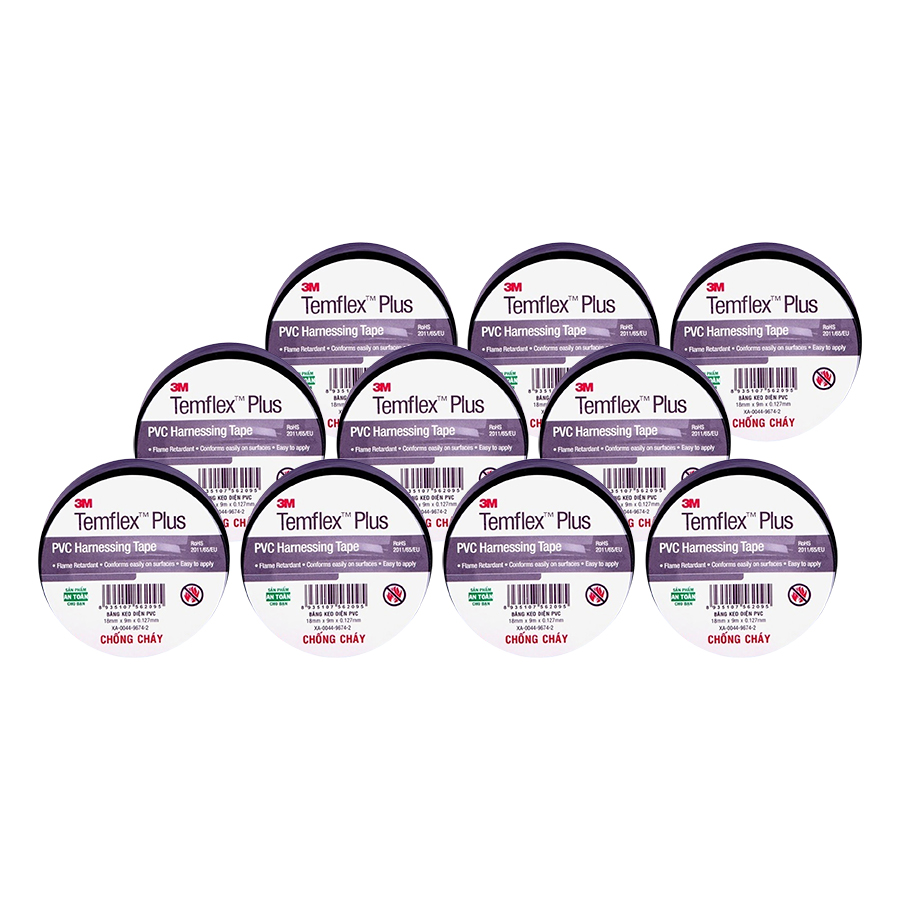3M: (297, 278, 325, 298), (703, 276, 731, 296), (500, 276, 524, 298), (370, 379, 399, 396), (274, 494, 300, 512), (574, 379, 599, 396), (166, 378, 196, 392), (71, 497, 100, 509), (478, 496, 501, 508), (680, 498, 705, 509)
